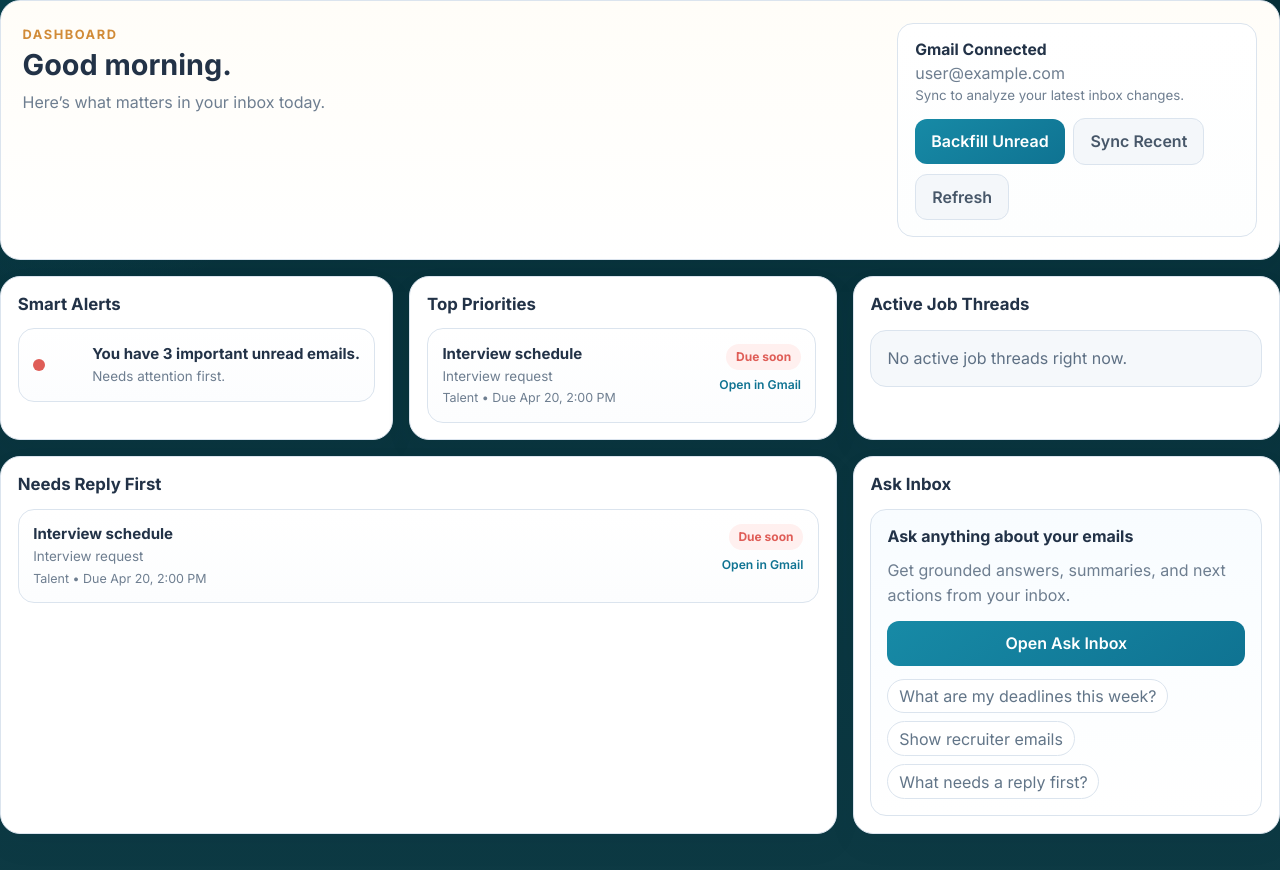
Scenario: DashboardPage › backs up the full unread inbox on demand
Click the button "Backfill Unread".
click(990, 141)  # box [915,119,1065,164]
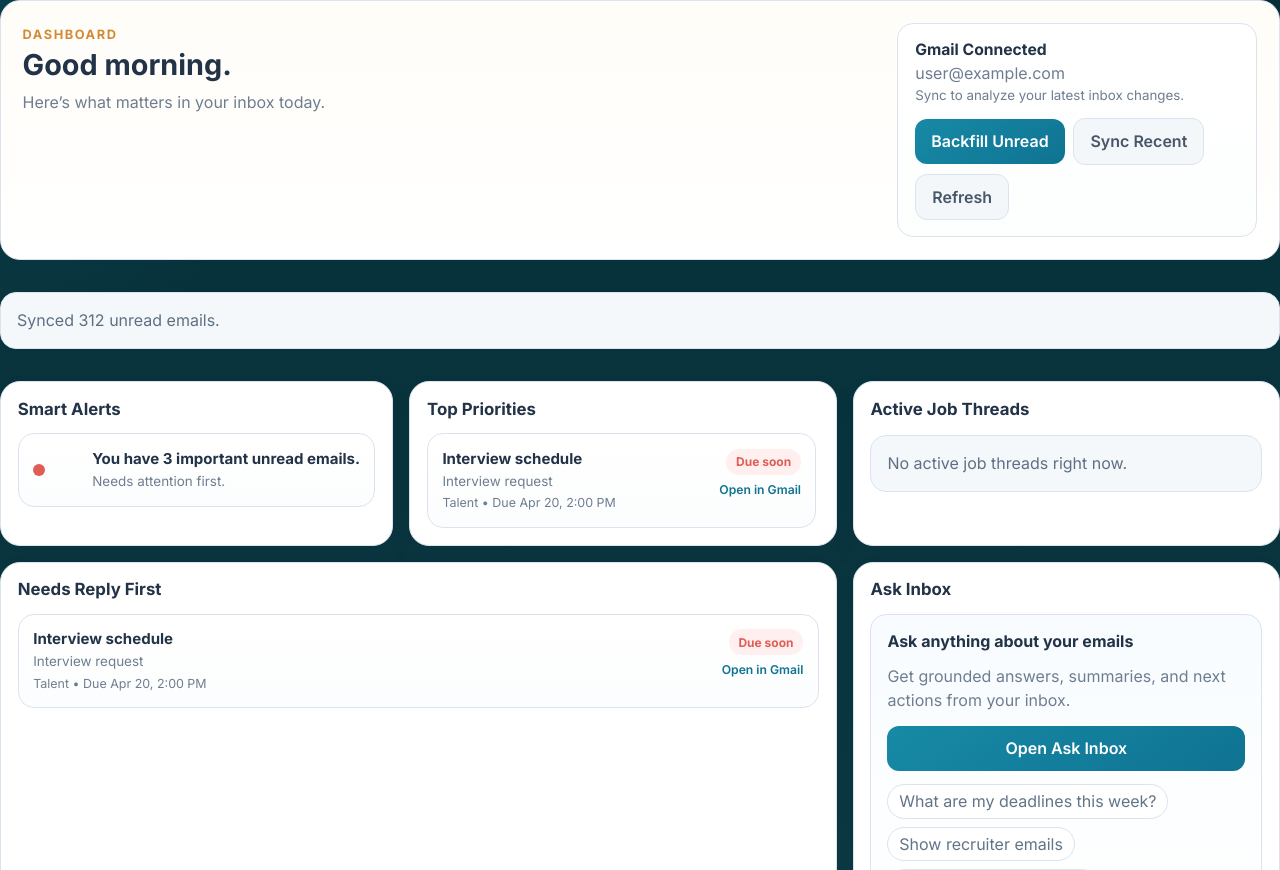
Now the text "Synced 312 unread emails." is shown, box [0,292,1279,349]
